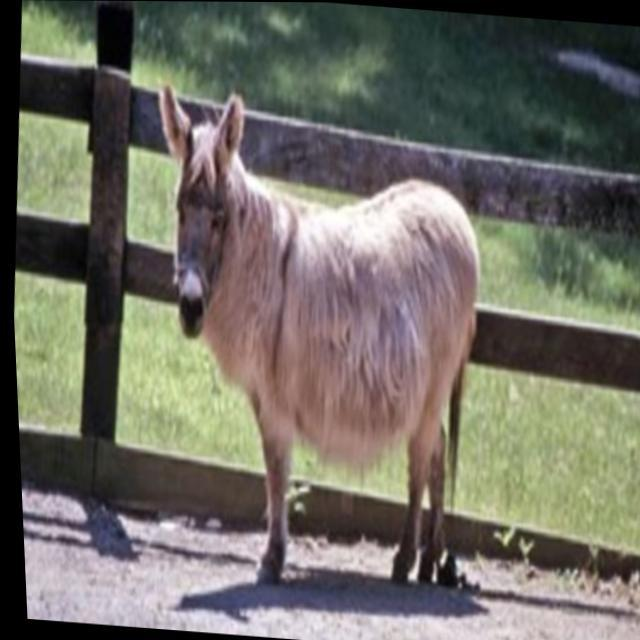Donkey: (110, 63, 511, 612)
